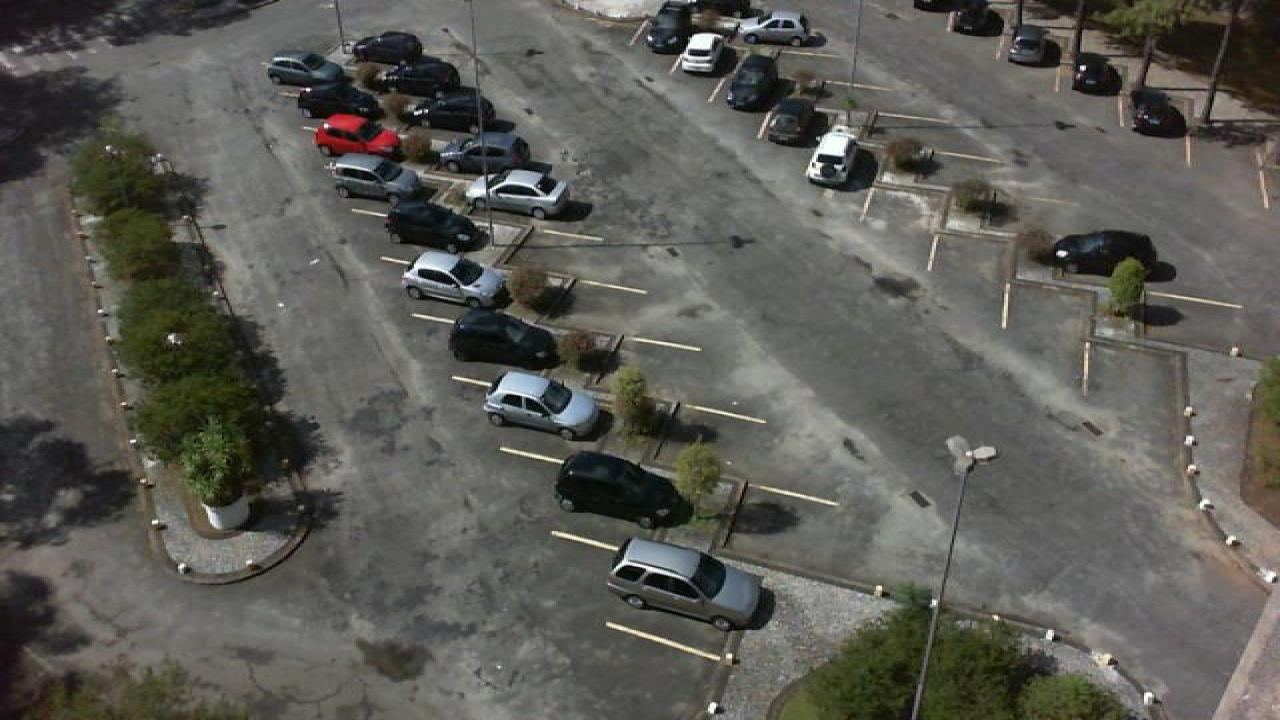Car: (604, 538, 772, 630), (552, 450, 692, 529), (484, 370, 608, 441), (448, 309, 562, 369), (400, 250, 508, 312), (1048, 229, 1170, 282), (384, 199, 488, 253), (466, 169, 580, 217), (326, 156, 424, 202), (428, 130, 528, 174), (314, 114, 404, 158), (402, 88, 490, 132), (804, 125, 864, 189), (720, 53, 780, 111), (292, 79, 378, 118), (736, 10, 824, 46), (766, 96, 828, 145), (1124, 88, 1186, 136), (264, 52, 344, 88), (376, 62, 460, 96), (350, 30, 422, 64), (644, 7, 696, 54), (676, 31, 730, 74), (1006, 27, 1058, 66), (948, 0, 1004, 36), (1070, 54, 1120, 94)
